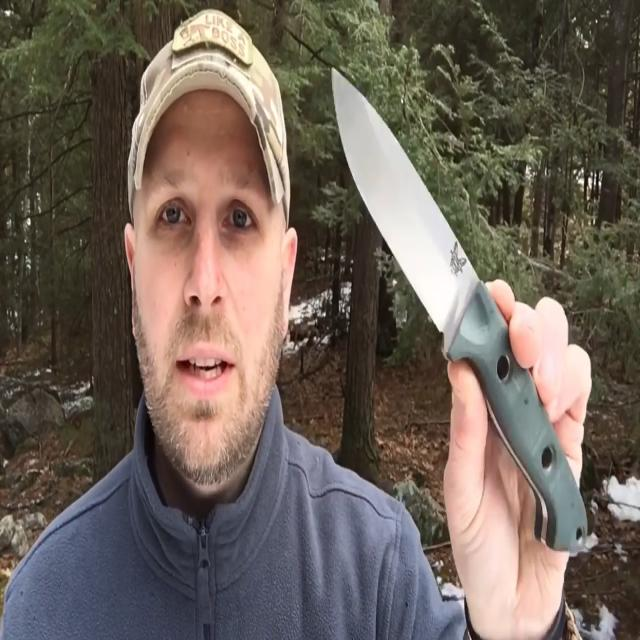knife: (326, 59, 594, 559)
